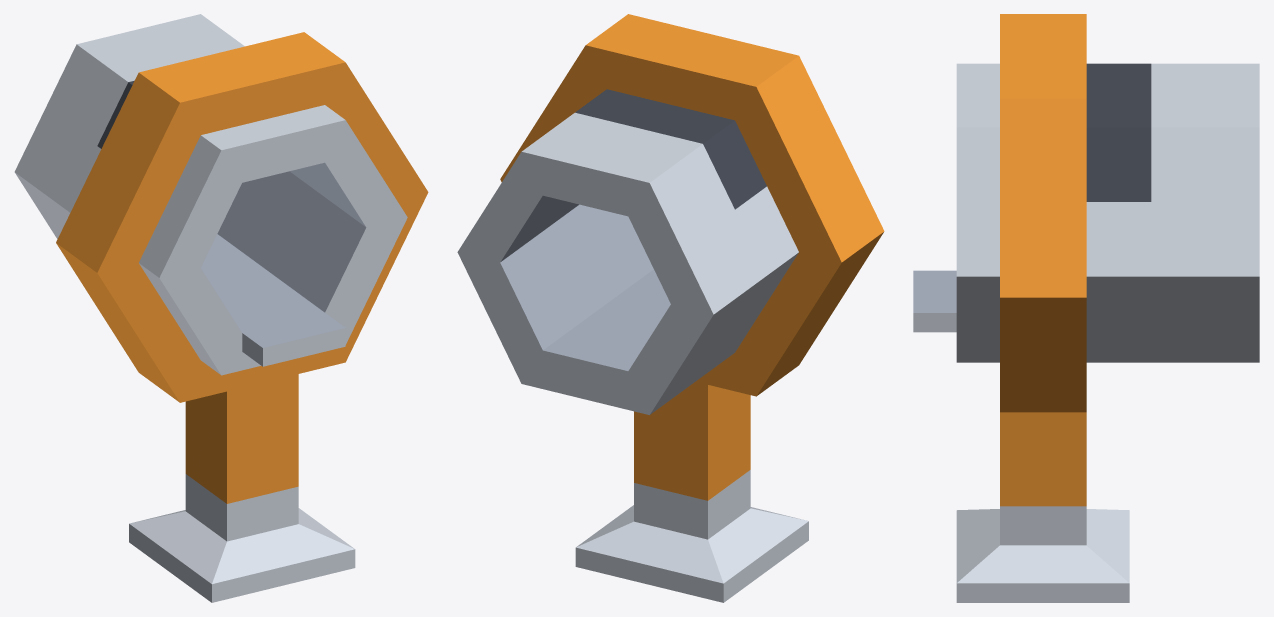
Rendered from pipe_ringHighEnd.obj.
3 views of the same model, side by side, from view 1: azimuth 30°, elevation 25°; view 2: azimuth 150°, elevation 25°; view 3: azimuth 270°, elevation 25° (orthographic). The views are drawn at different scales.
Visible parts, largest first — view 1: pipe_ringHighEnd; view 2: pipe_ringHighEnd; view 3: pipe_ringHighEnd.
Boxes of the visible parts, <box> form: pipe_ringHighEnd: <box>14,14,428,602</box>; pipe_ringHighEnd: <box>457,14,884,602</box>; pipe_ringHighEnd: <box>913,14,1259,602</box>.
Bounding box in the file's own units: 0.9238 × 1.3 × 0.8.
